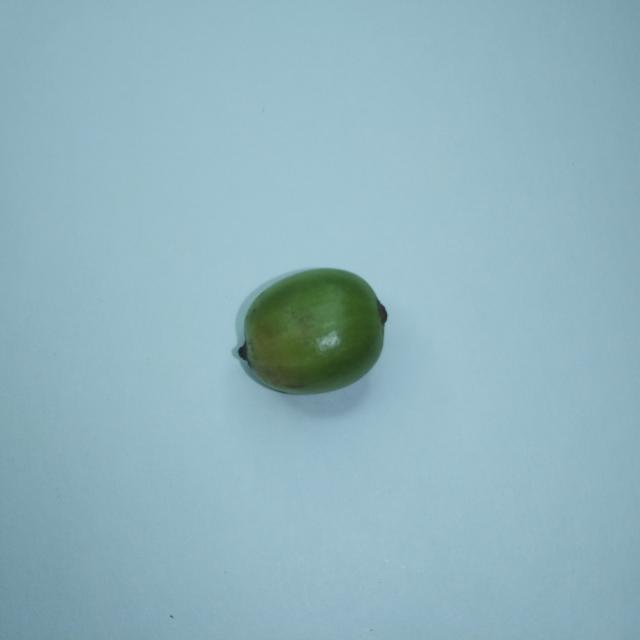Sano: (233, 268, 387, 394)
